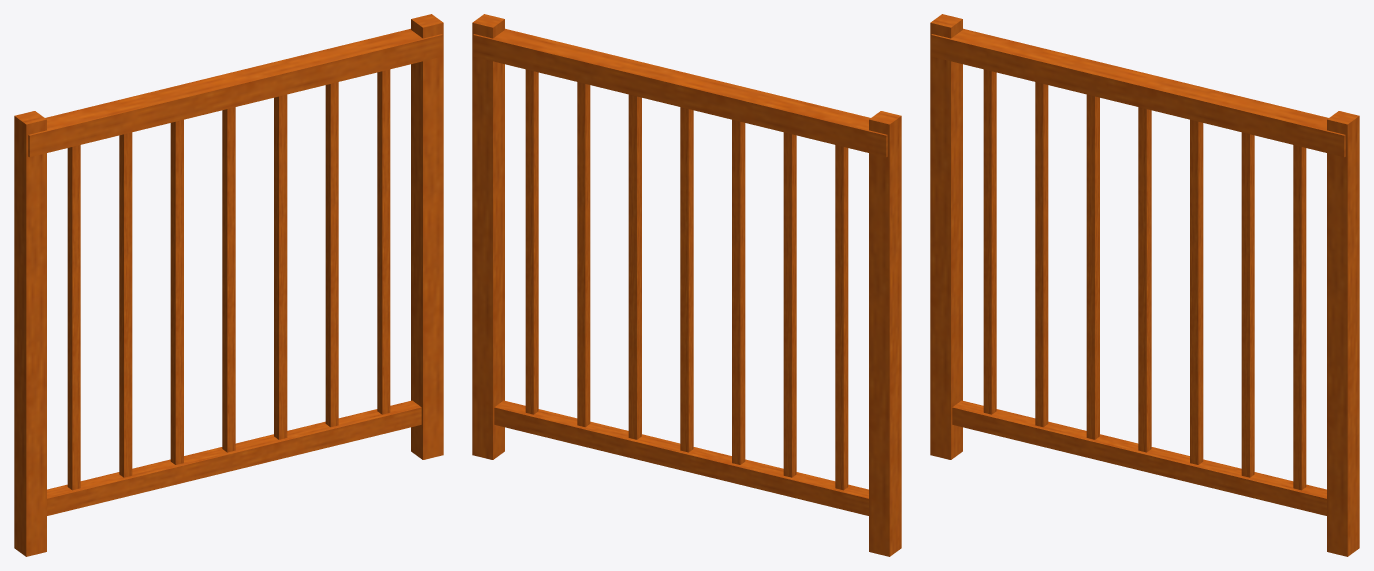
The model's file is Railing.fbx.
The picture shows the model from 3 angles, left to right: view 1: azimuth 30°, elevation 25°; view 2: azimuth 150°, elevation 25°; view 3: azimuth 330°, elevation 25°; orthographic projection.
Parts seen in each view (by area): view 1: Railing; view 2: Railing; view 3: Railing.
Part boxes in pixels (x1,y1,x2,y2): Railing: [14, 14, 443, 556]; Railing: [472, 14, 901, 556]; Railing: [930, 14, 1359, 556].
Size of the model in its own units: 1.01 by 1 by 0.06.
